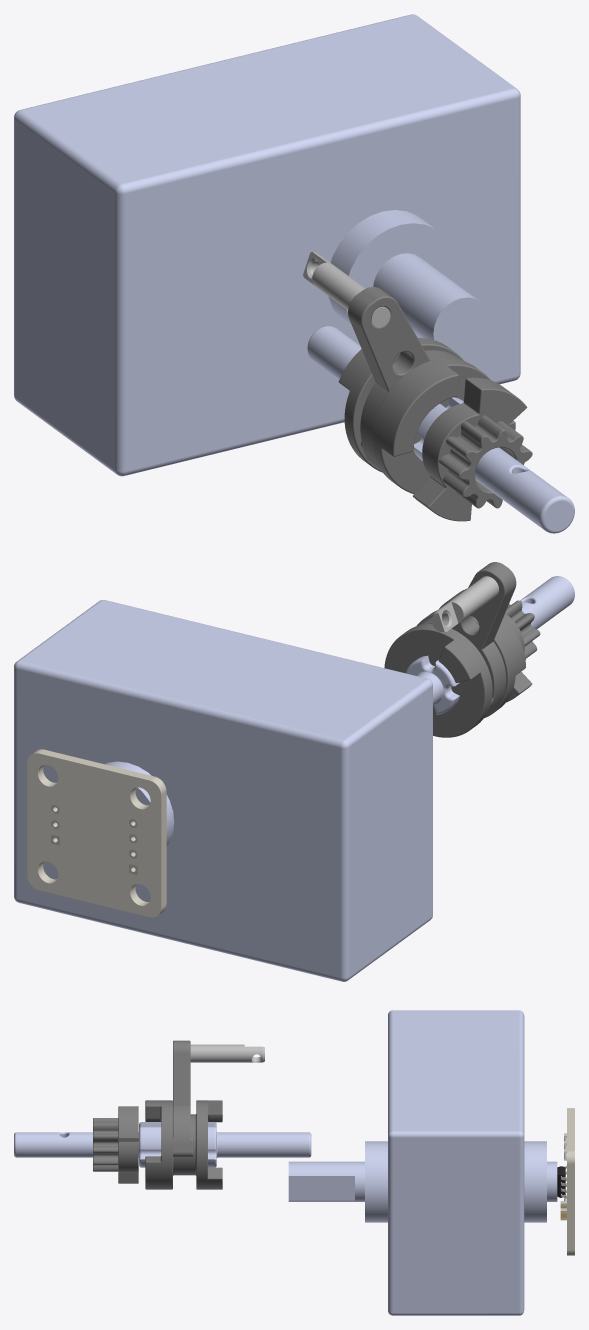
Rendered from hankKneeAssem.glb.
3 renders of one model, top to bottom at view 1: azimuth 30°, elevation 25°; view 2: azimuth 150°, elevation 25°; view 3: azimuth 270°, elevation 25°, orthographic. The views are drawn at different scales.
Parts seen in each view (by area): view 1: Rough Hub Motor Assembly-1, Dog Clutch 1-1, Dog Clutch 2-1, Dog Clutch 4-1, Dog Clutch 3-1; view 2: Rough Hub Motor Assembly-1, AS5600 Magnetic Encoder-1, Dog Clutch 2-1, Dog Clutch 4-1, Dog Clutch 3-1, Dog Clutch 1-1; view 3: Rough Hub Motor Assembly-1, Dog Clutch 3-1, Dog Clutch 2-1, Dog Clutch 4-1, Dog Clutch 1-1, AS5600 Magnetic Encoder-1.
Boxes of the visible parts, <box> form: Rough Hub Motor Assembly-1: <box>14,14,520,476</box>; Dog Clutch 1-1: <box>413,377,532,521</box>; Dog Clutch 2-1: <box>338,338,515,493</box>; Dog Clutch 4-1: <box>303,252,461,469</box>; Dog Clutch 3-1: <box>307,326,574,533</box>; Rough Hub Motor Assembly-1: <box>14,600,432,981</box>; AS5600 Magnetic Encoder-1: <box>27,749,166,917</box>; Dog Clutch 2-1: <box>384,610,525,737</box>; Dog Clutch 4-1: <box>418,562,516,715</box>; Dog Clutch 3-1: <box>405,576,574,714</box>; Dog Clutch 1-1: <box>438,588,540,702</box>; Rough Hub Motor Assembly-1: <box>288,1010,557,1315</box>; Dog Clutch 3-1: <box>14,1122,311,1167</box>; Dog Clutch 2-1: <box>145,1100,222,1189</box>; Dog Clutch 4-1: <box>173,1040,264,1156</box>; Dog Clutch 1-1: <box>93,1106,138,1183</box>; AS5600 Magnetic Encoder-1: <box>557,1108,574,1255</box>.
Size of the model in its own units: 0.058 by 0.04 by 0.1104.
